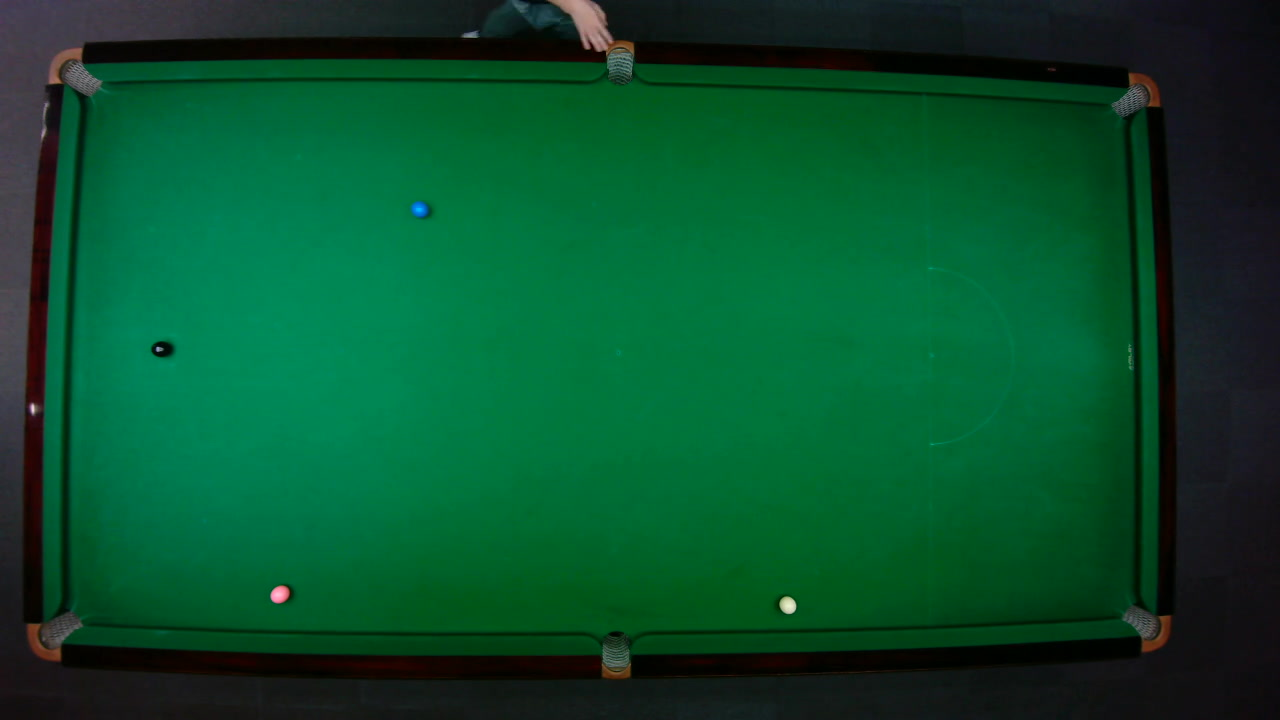bag: (25, 609, 83, 661), (45, 46, 102, 97), (1119, 603, 1171, 651), (1108, 72, 1161, 118), (600, 629, 630, 680), (605, 38, 634, 85)
black: (149, 339, 171, 357)
blue: (409, 199, 429, 218)
pink: (268, 583, 291, 604)
white: (777, 594, 796, 614)
zone: (927, 265, 1014, 445)
